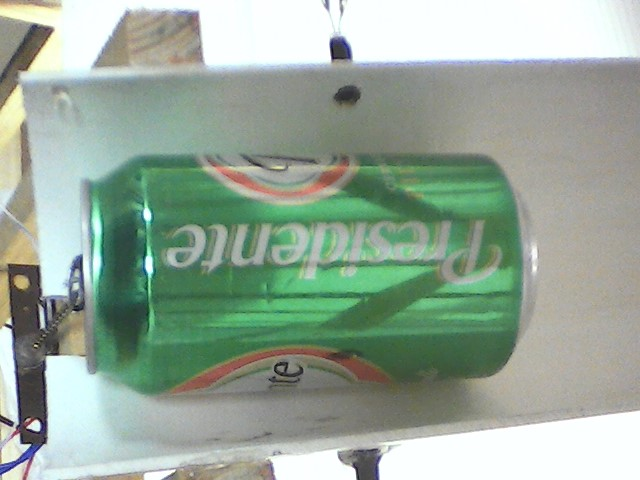lata: (75, 146, 546, 407)
